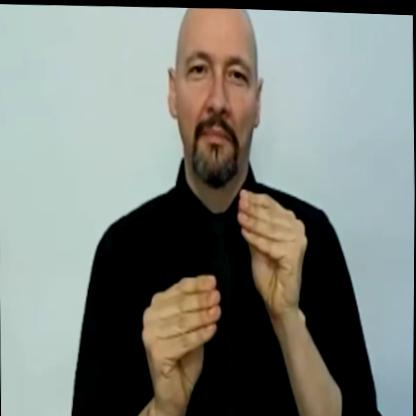Fix: (140, 180, 311, 406)
